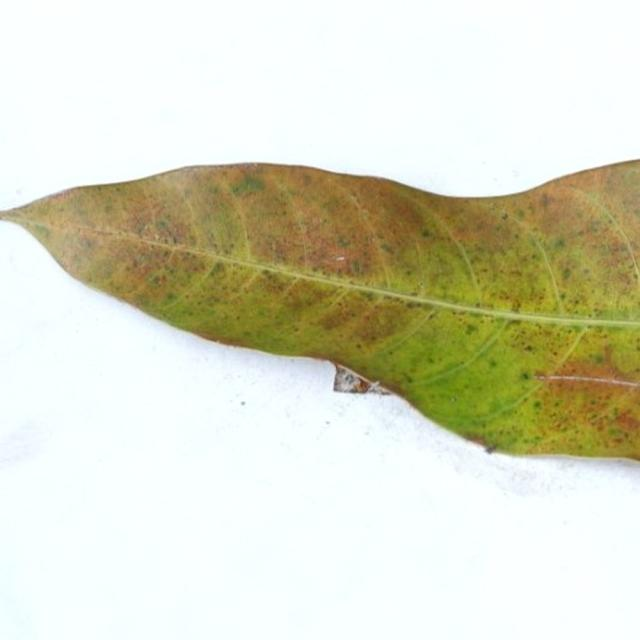Mango: (3, 161, 639, 460)
Powdery_Mildew: (461, 214, 578, 311), (520, 359, 640, 451), (369, 221, 474, 304), (263, 209, 368, 275), (564, 215, 640, 299), (144, 207, 200, 251), (250, 269, 309, 310), (559, 361, 633, 384), (608, 335, 640, 376), (324, 292, 366, 320), (222, 174, 267, 200), (19, 218, 54, 241), (541, 338, 564, 360), (207, 260, 228, 280), (539, 193, 554, 209), (148, 273, 163, 285), (554, 237, 567, 250), (485, 443, 497, 454), (592, 354, 605, 364), (165, 292, 177, 302), (261, 269, 274, 278), (421, 229, 432, 238), (520, 371, 531, 380), (488, 359, 498, 368), (533, 400, 542, 409), (427, 356, 436, 364), (501, 213, 508, 220), (450, 396, 456, 402)
